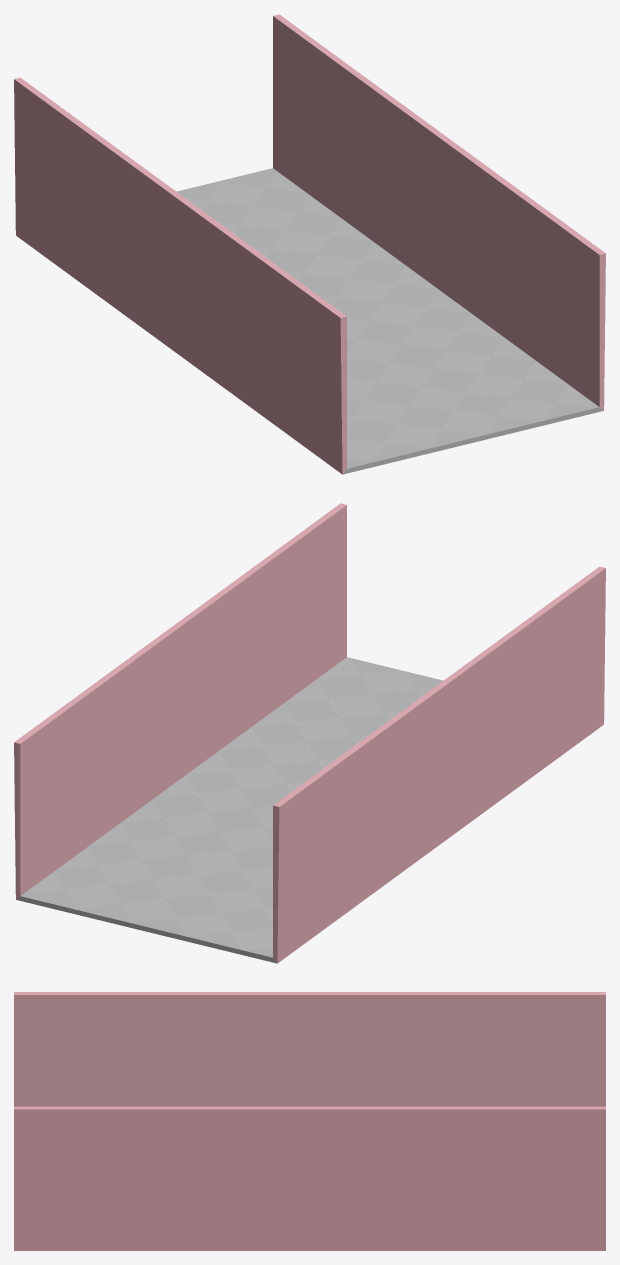
File: Ground Wall.FBX
3 renders of one model, top to bottom at view 1: azimuth 30°, elevation 25°; view 2: azimuth 150°, elevation 25°; view 3: azimuth 270°, elevation 25°, orthographic. The views are drawn at different scales.
Visible parts, largest first — view 1: Object013; view 2: Object013; view 3: Object013.
Boxes of the visible parts, <box> form: Object013: <box>14,14,605,474</box>; Object013: <box>14,503,605,963</box>; Object013: <box>14,992,605,1250</box>.
Size of the model in its own units: 484 by 274 by 1032.
Materials: 1 (1 with a texture image).
